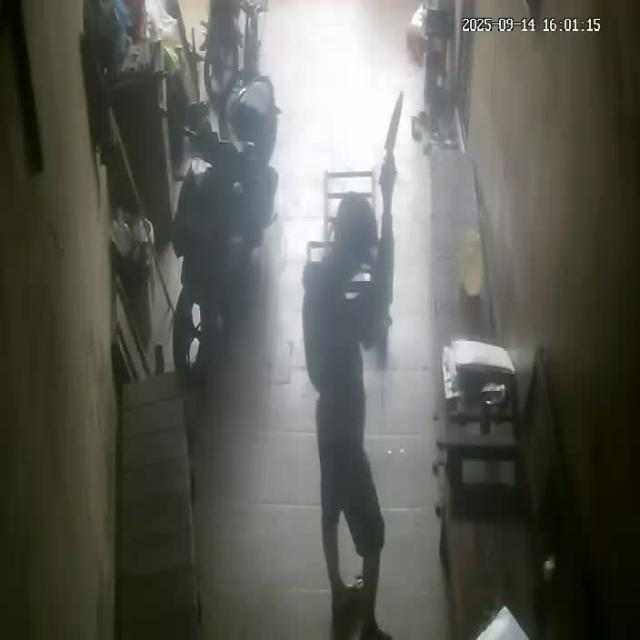senjata_tajam: (382, 86, 406, 155)
